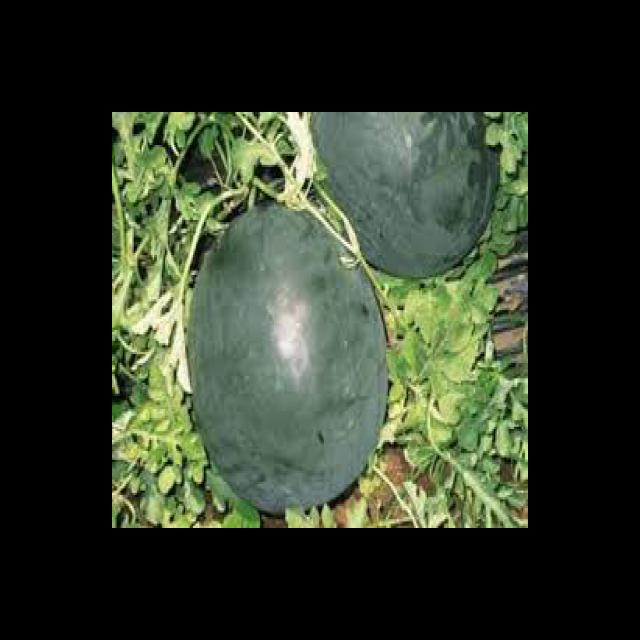watermelon: (186, 204, 388, 514), (309, 112, 502, 279)
